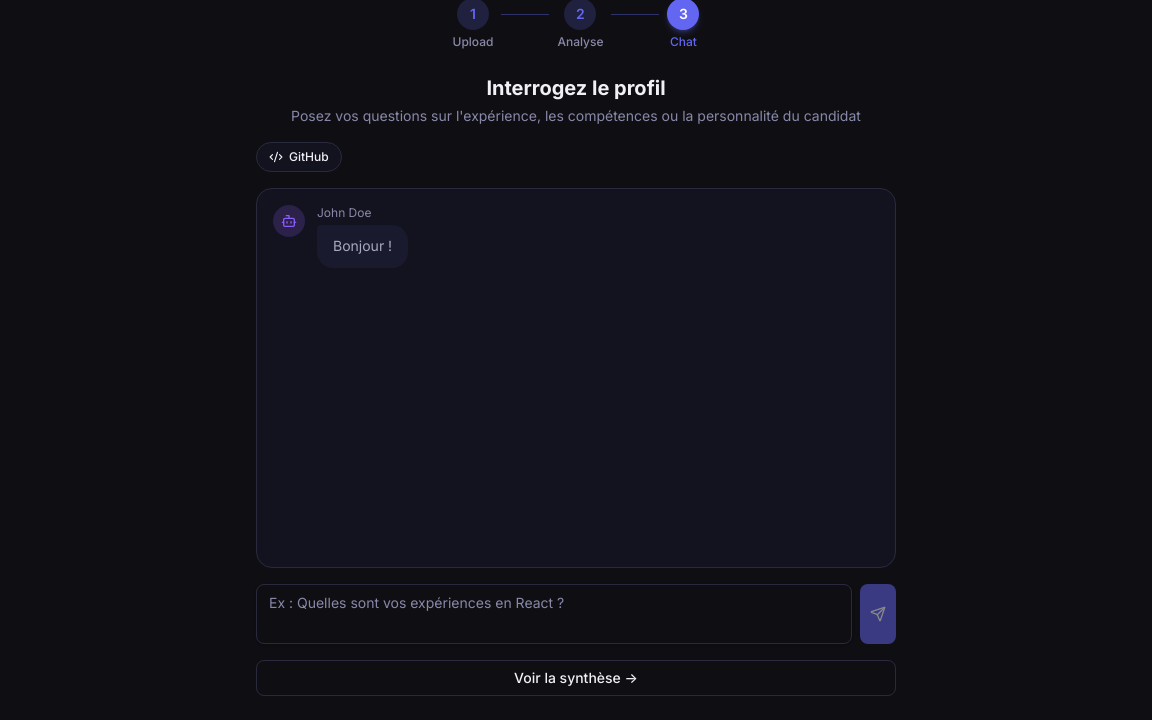
Scenario: HomePage — Step 3 (Chat) › shows error toast when summary generation fails
The width and height of the screenshot is (1152, 720).
(page scrolled)
Click the button "Voir la synthèse →". click: (576, 678)
box: x1=256 y1=660 x2=896 y2=696
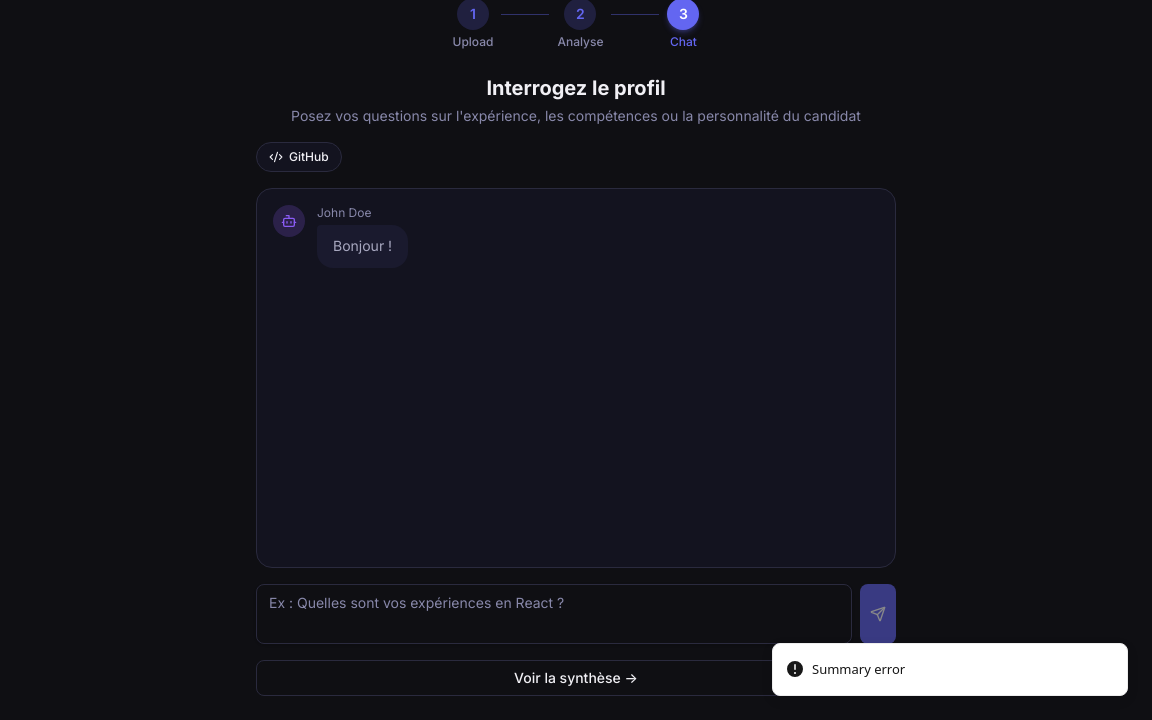
Check: the text "Summary error" is shown, box x1=812 y1=660 x2=905 y2=679
